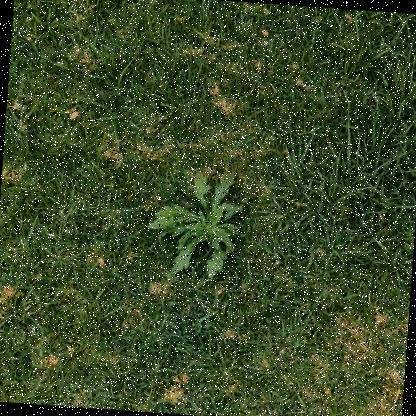Weeds: (144, 165, 246, 283)
